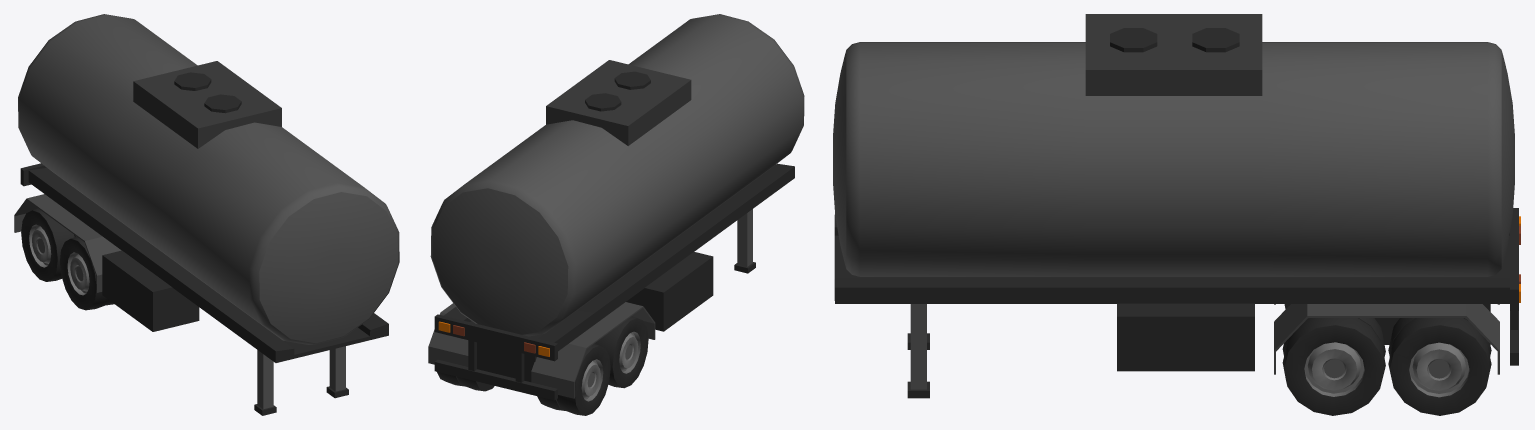
Rendered from SM_IndustrialProps_Truck_01.fbx.
3 views of the same model, side by side, from view 1: azimuth 30°, elevation 25°; view 2: azimuth 150°, elevation 25°; view 3: azimuth 270°, elevation 25° (orthographic). The views are drawn at different scales.
Parts seen in each view (by area): view 1: SM_IndustrialProps_Truck_01; view 2: SM_IndustrialProps_Truck_01; view 3: SM_IndustrialProps_Truck_01.
Boxes of the visible parts, x1,y1,x2,y2 form: SM_IndustrialProps_Truck_01: (14,14,399,415); SM_IndustrialProps_Truck_01: (428,14,804,415); SM_IndustrialProps_Truck_01: (833,14,1520,415).
Size of the model in its own units: 2.15 by 3.28 by 6.17.
